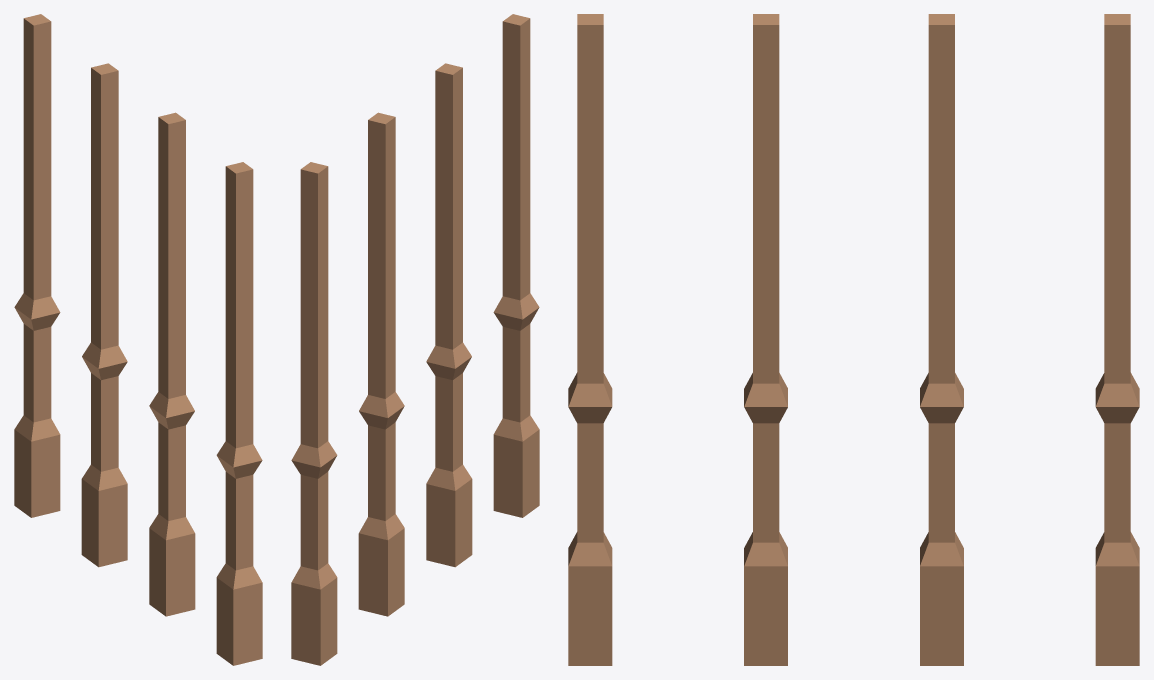
Rendered from Stairs_Indoor_Balcony_Posts_Straight.obj.
The picture shows the model from 3 angles, left to right: view 1: azimuth 30°, elevation 25°; view 2: azimuth 150°, elevation 25°; view 3: azimuth 270°, elevation 25°; orthographic projection. The views are drawn at different scales.
Parts seen in each view (by area): view 1: object3, object4, object2, object1; view 2: object4, object3, object1, object2; view 3: object3, object4, object1, object2.
Part boxes in pixels (x1,y1,x2,y2): object3: [14, 14, 60, 517]; object4: [216, 162, 262, 665]; object2: [81, 63, 127, 567]; object1: [149, 112, 195, 616]; object4: [493, 14, 539, 517]; object3: [291, 162, 337, 665]; object1: [426, 63, 472, 567]; object2: [358, 112, 404, 616]; object3: [1095, 14, 1139, 665]; object4: [568, 14, 612, 665]; object1: [744, 14, 787, 665]; object2: [920, 14, 963, 665].
Size of the model in its own units: 0.05 by 0.8 by 0.65.
